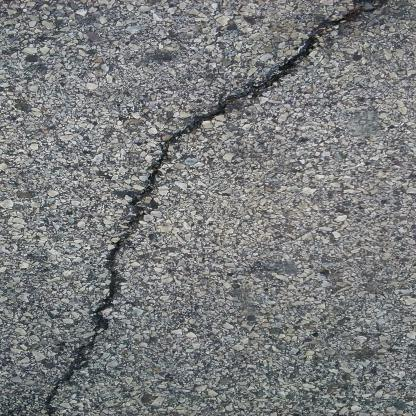Cracks: (39, 0, 390, 416)
